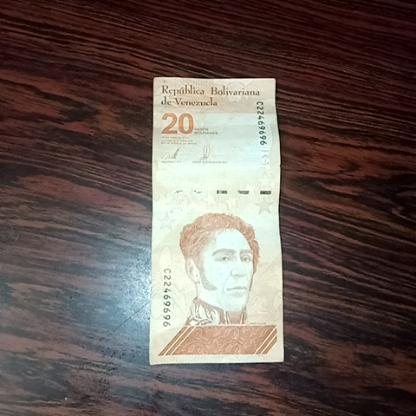twenty-front-vef: (148, 77, 288, 365)
